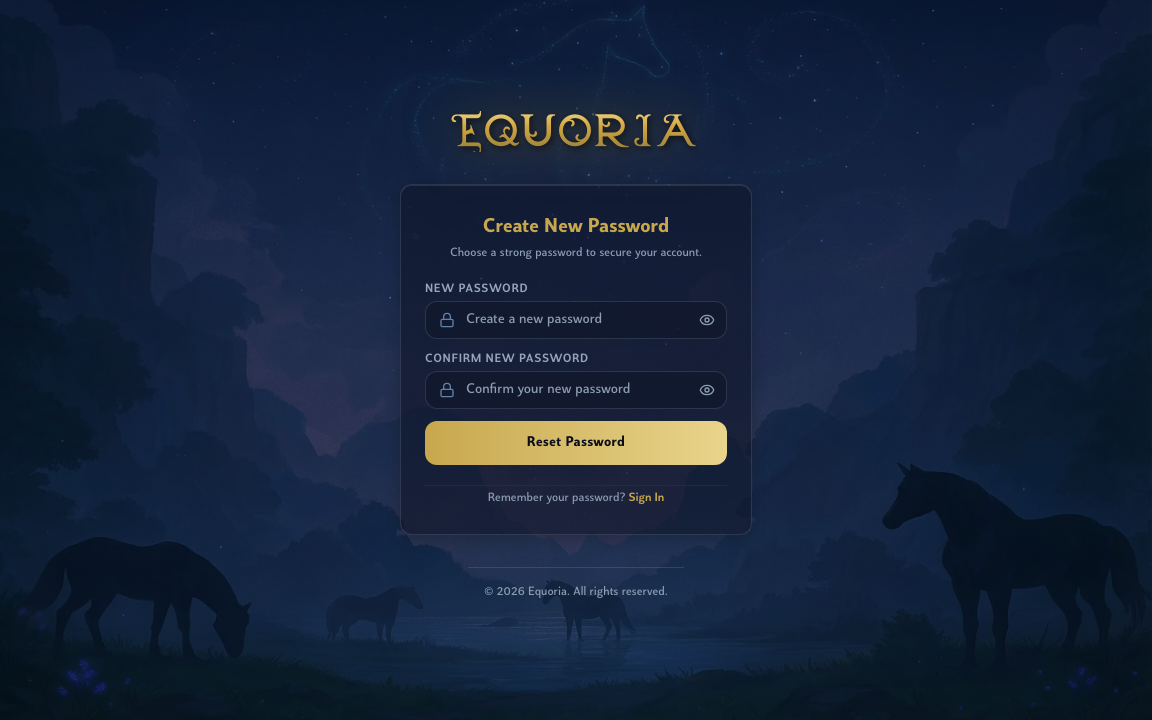
Scenario: ResetPasswordPage › Form Validation › shows error for password without uppercase
The image size is (1152, 720).
Type "password123!" into the password field with placeholder "Create a new password" at (576, 320), box x1=425 y1=301 x2=727 y2=339
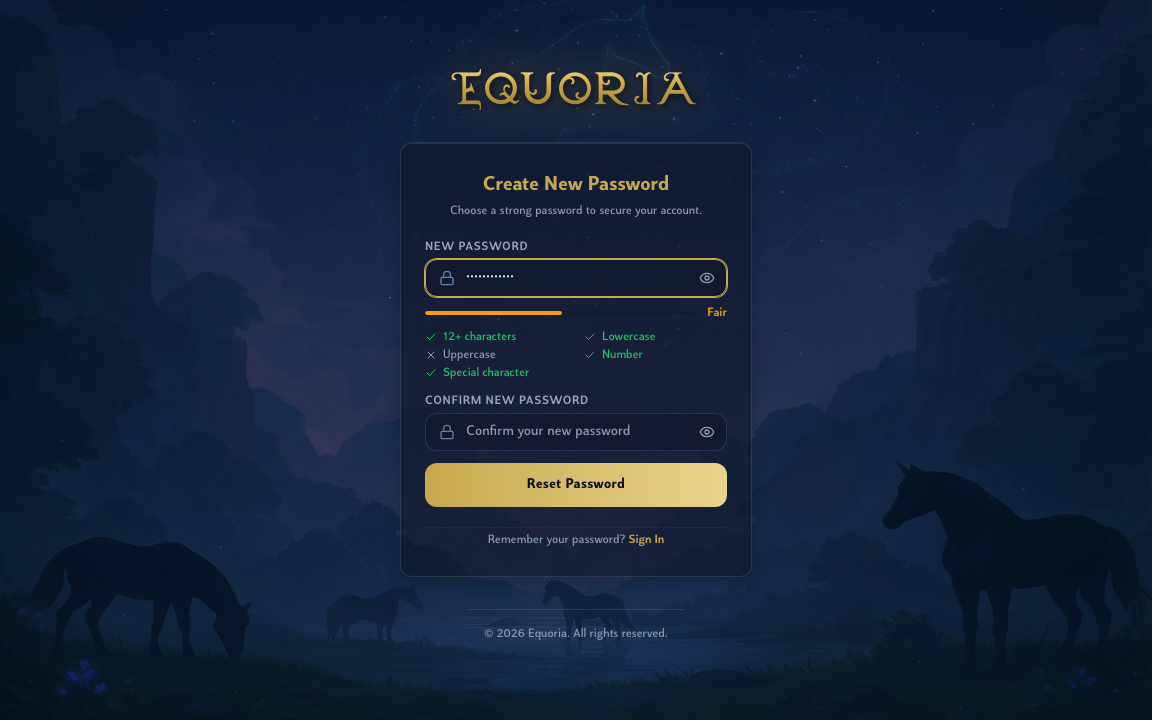
Submit the form named "reset password", box x1=425 y1=239 x2=727 y2=507
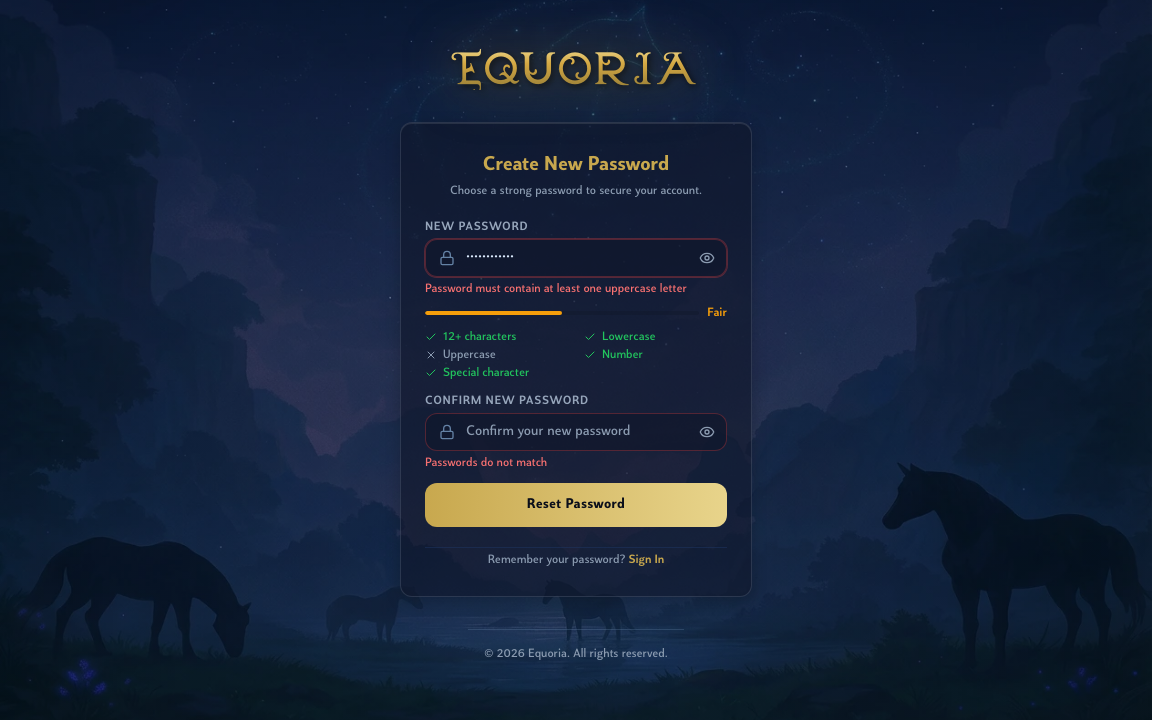
Check: the text "Password must contain at least one uppercase letter" is shown, box x1=425 y1=281 x2=727 y2=297
